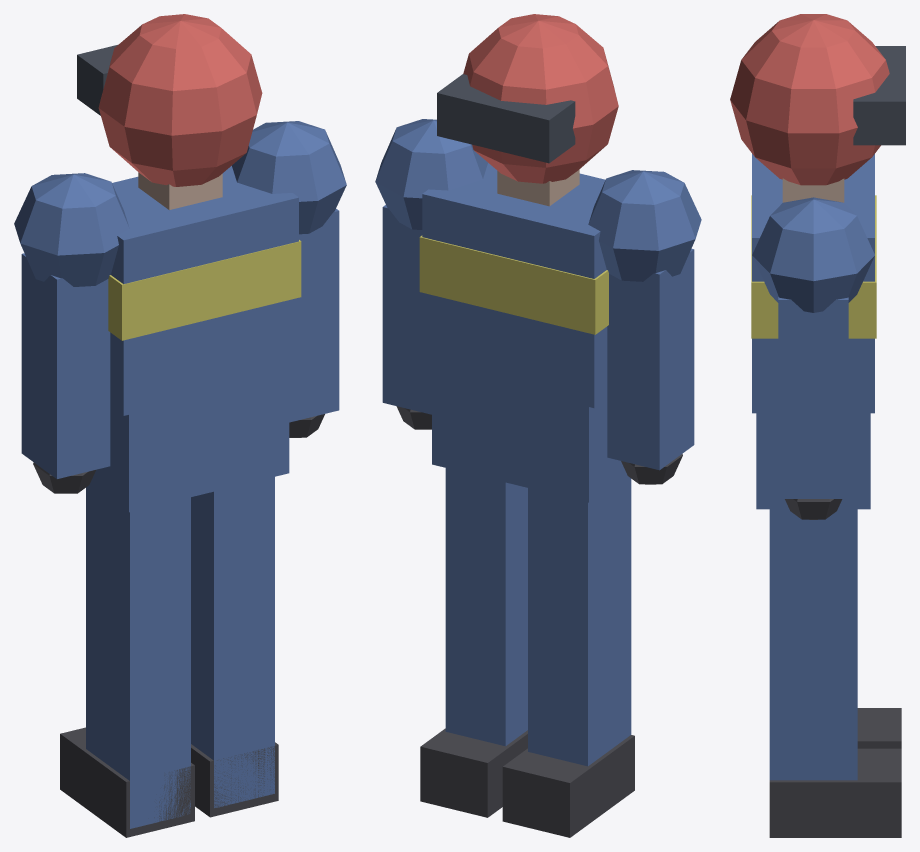
The model's file is character.glb.
The picture shows the model from 3 angles, left to right: view 1: azimuth 30°, elevation 25°; view 2: azimuth 150°, elevation 25°; view 3: azimuth 270°, elevation 25°; orthographic projection.
Parts seen in each view (by area): view 1: character; view 2: character; view 3: character.
Part boxes in pixels (left/top/right/bottom): character: left=14, top=14, right=346, bottom=837; character: left=375, top=14, right=701, bottom=837; character: left=730, top=14, right=905, bottom=837.
Size of the model in its own units: 0.84 by 1.96 by 0.4.
